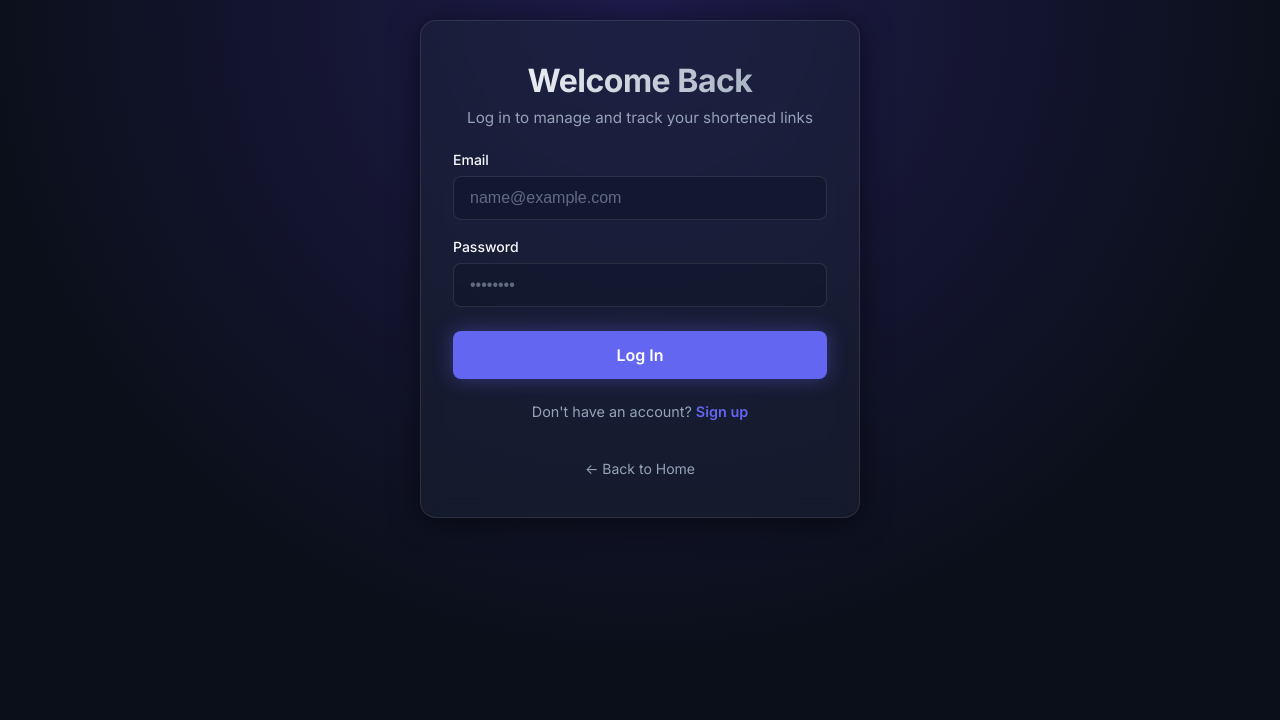
LoginPage Component › validates empty email
Click the button "Log In" at (640, 355), box left=453, top=331, right=827, bottom=379
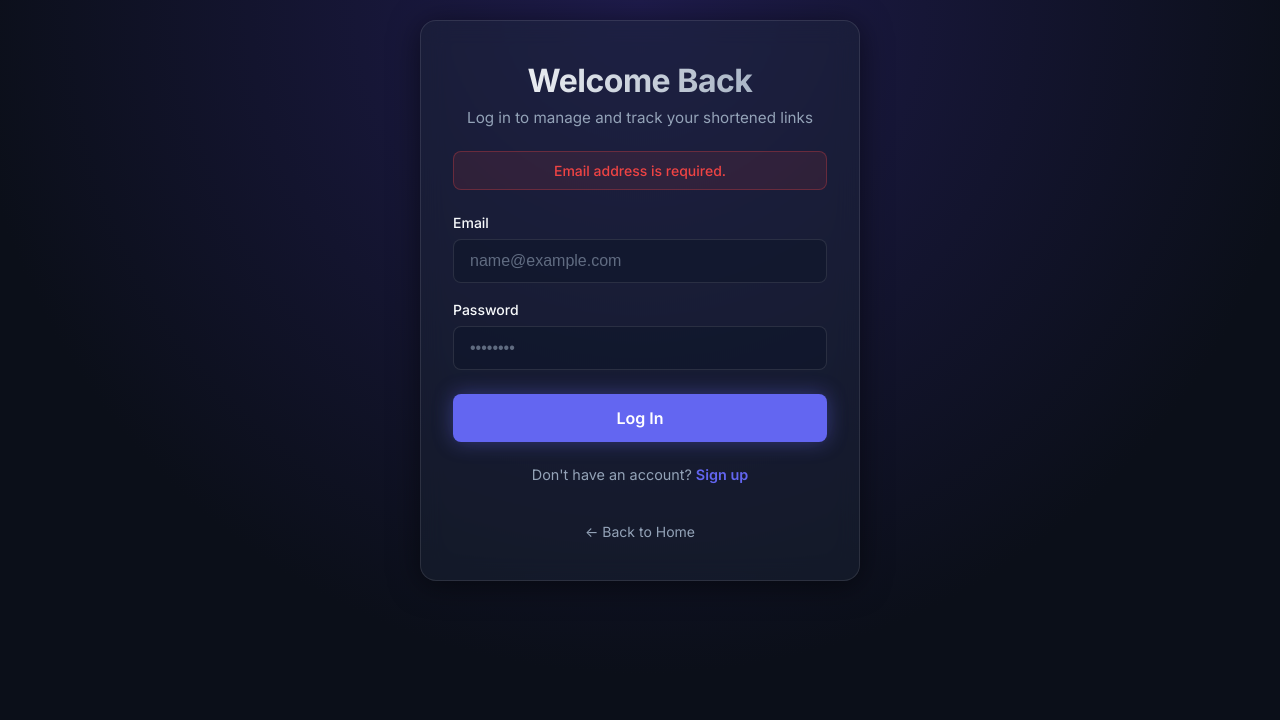
expect the text "Email address is required." is shown: met, box left=453, top=151, right=827, bottom=190
